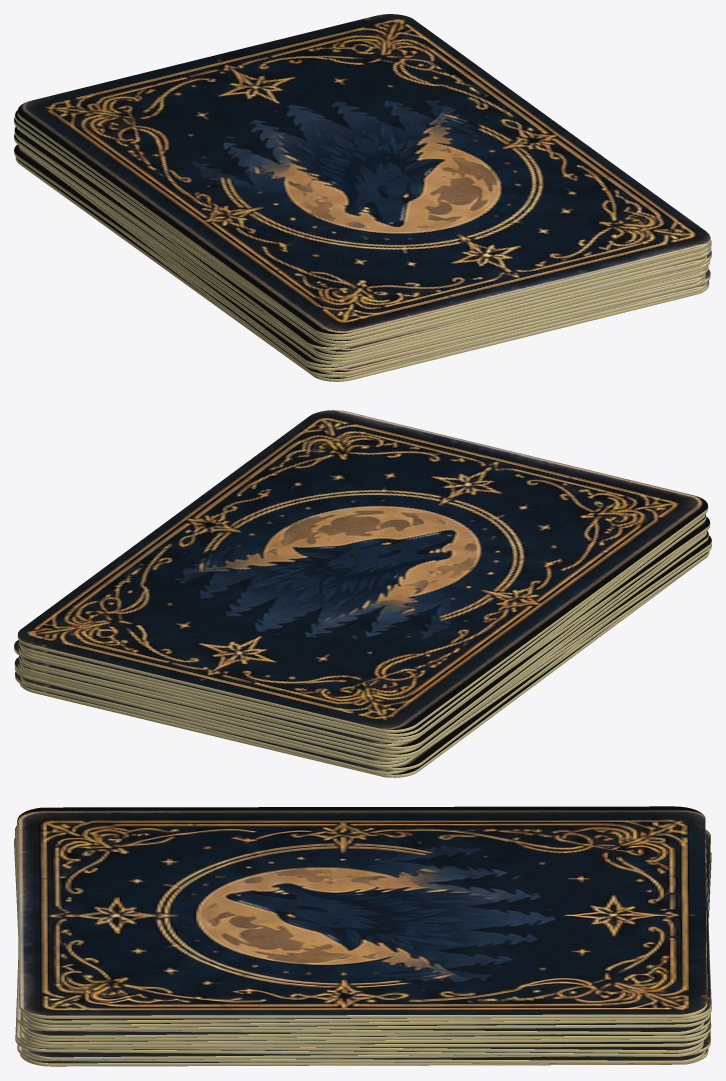
File: RoleCard_Deck.glb
The picture shows the model from 3 angles, top to bottom: view 1: azimuth 30°, elevation 25°; view 2: azimuth 150°, elevation 25°; view 3: azimuth 270°, elevation 25°; orthographic projection. The views are drawn at different scales.
Parts seen in each view (by area): view 1: Deck_Mesh; view 2: Deck_Mesh; view 3: Deck_Mesh.
Boxes of the visible parts, x1,y1,x2,y2 form: Deck_Mesh: (14, 14, 711, 381); Deck_Mesh: (14, 410, 711, 777); Deck_Mesh: (14, 806, 711, 1066).
Bounding box in the file's own units: 0.645 × 0.0726 × 0.8915.
42 materials, 28 textured.
